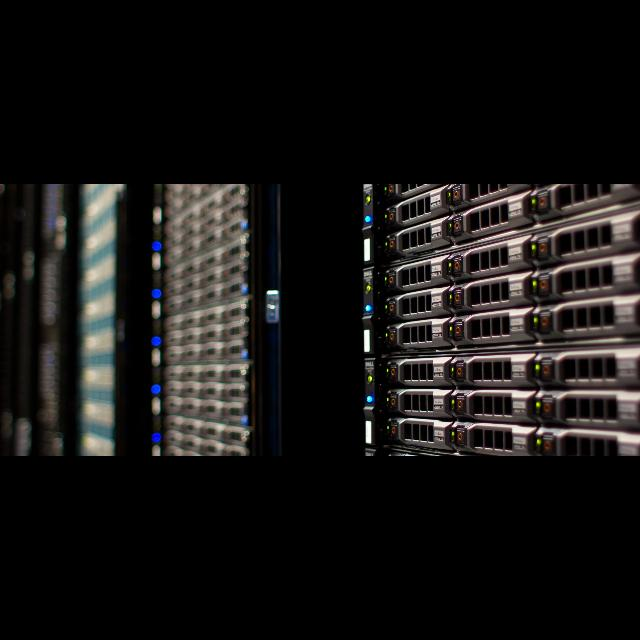Server: (370, 184, 634, 456)
